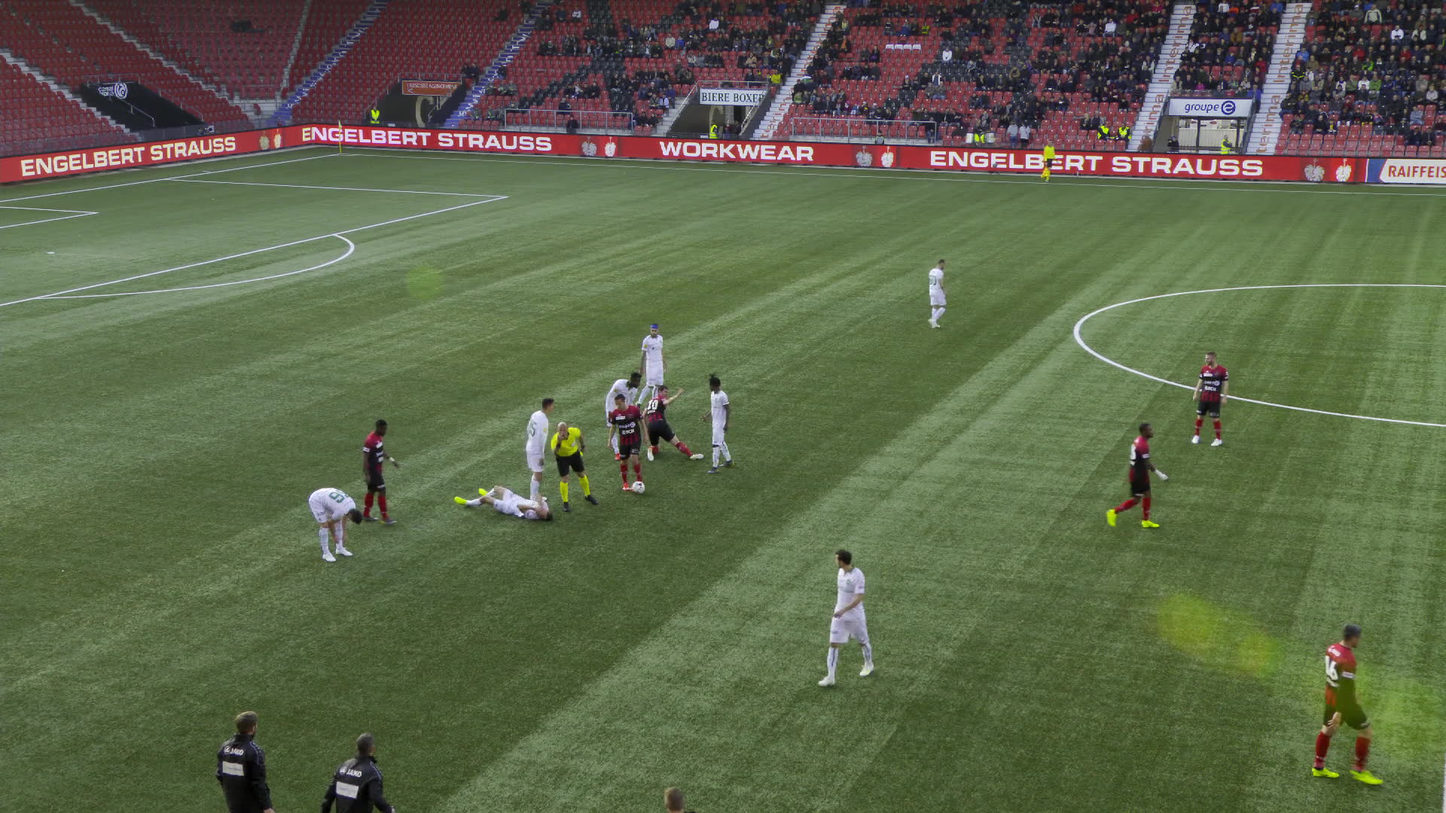ball: (633, 482, 645, 494)
player: (1313, 623, 1372, 784), (816, 547, 872, 684), (1103, 422, 1168, 528), (642, 385, 703, 459), (606, 393, 647, 491), (308, 487, 362, 561), (361, 418, 396, 525), (1191, 352, 1228, 445), (454, 485, 552, 520), (701, 373, 733, 473), (606, 373, 641, 461), (525, 397, 554, 501), (635, 324, 664, 406), (923, 259, 947, 327)
referee: (551, 422, 598, 510), (1040, 139, 1054, 182)
